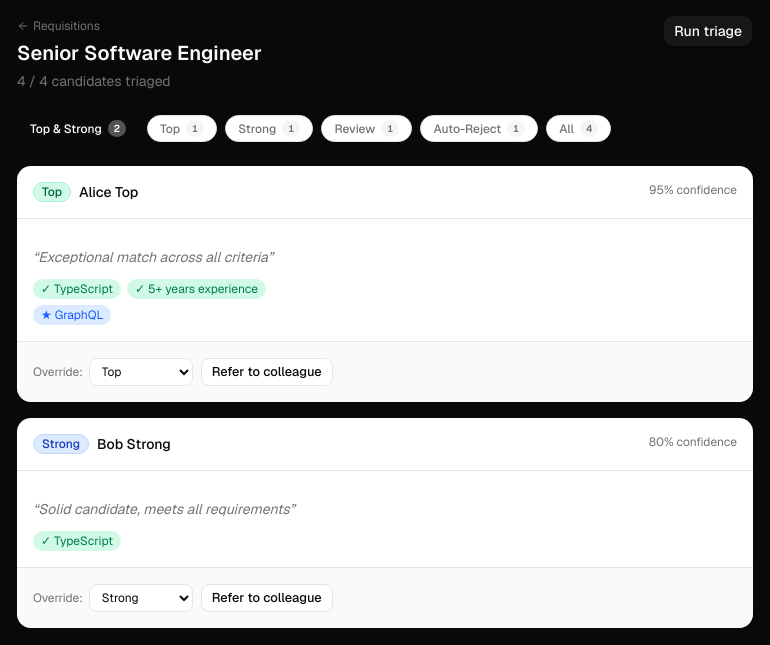
rendering › clicking the active filter or Top & Strong resets to default view
The image size is (770, 645).
# Switch away from default
What coordinates should you click on to do the following:
click the button named "Review1"
I would click on:
 (367, 129)
Its box is 322,115 -> 412,142.
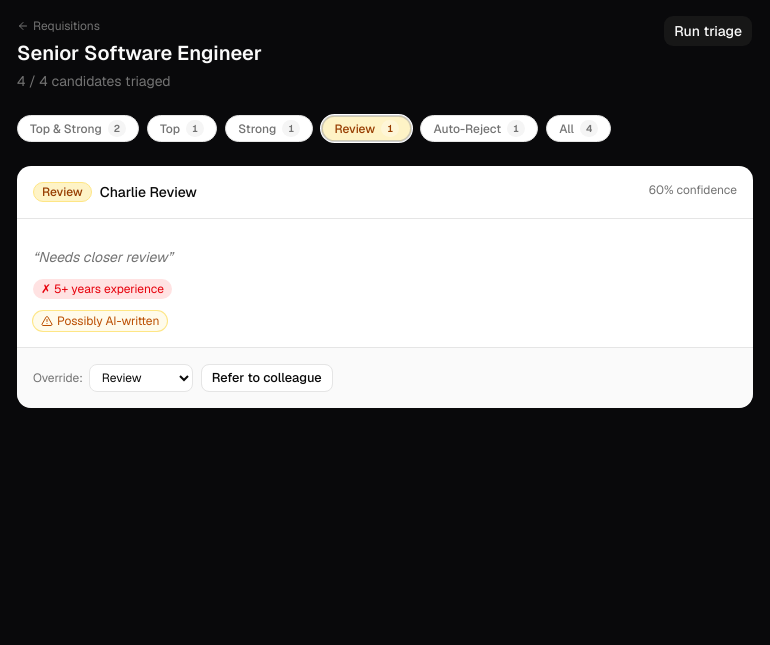
# Click Top & Strong to return to default
What coordinates should you click on to do the following:
click the button "Top & Strong 2"
I would click on:
 (78, 129)
Its box is 17,115 -> 139,142.
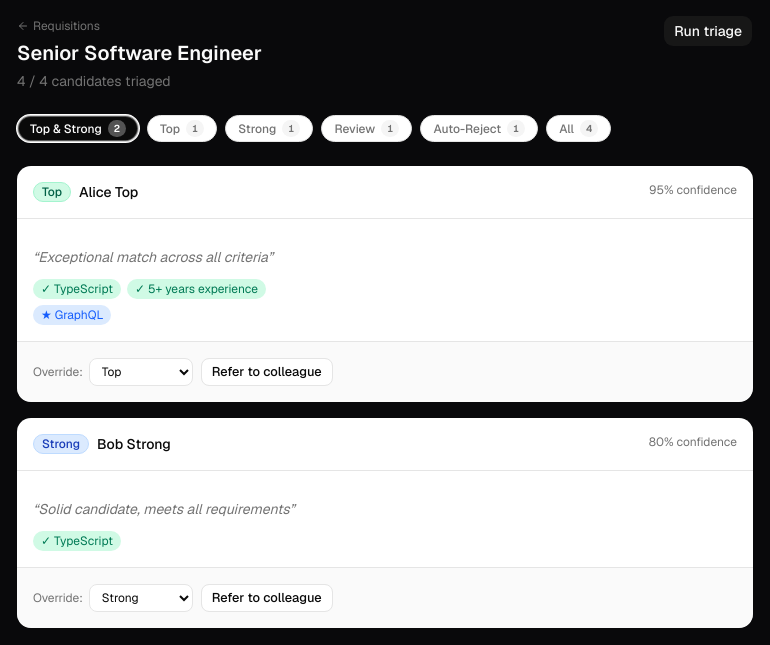
Result: the text "Alice Top" is shown at 79,182 -> 138,202
Result: the text "Bob Strong" is shown at 97,434 -> 171,454
